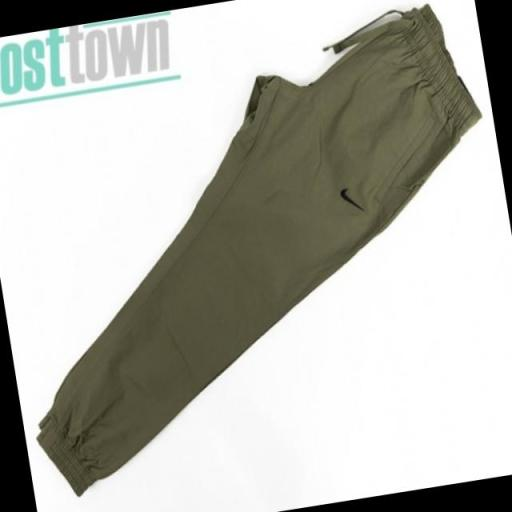Nike: (334, 182, 367, 220)
